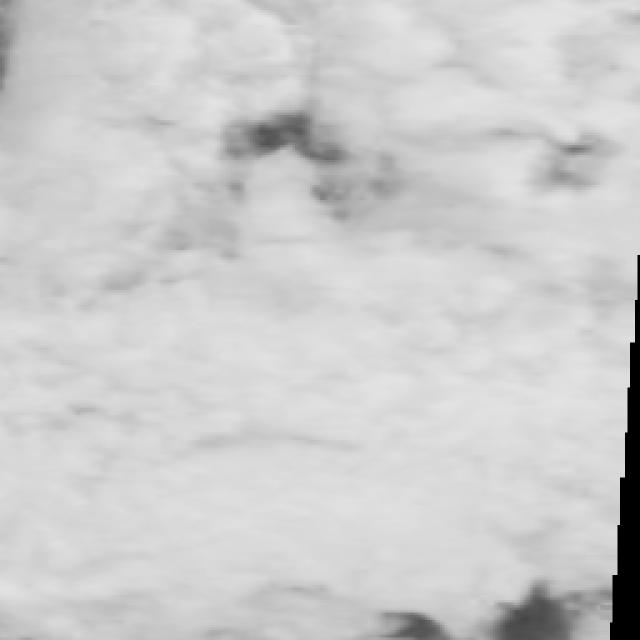CB: (0, 375, 202, 640), (372, 382, 611, 600), (196, 361, 364, 638), (354, 3, 572, 215), (368, 217, 606, 388), (0, 177, 185, 375), (187, 212, 382, 372), (140, 0, 378, 130), (0, 0, 158, 188)
